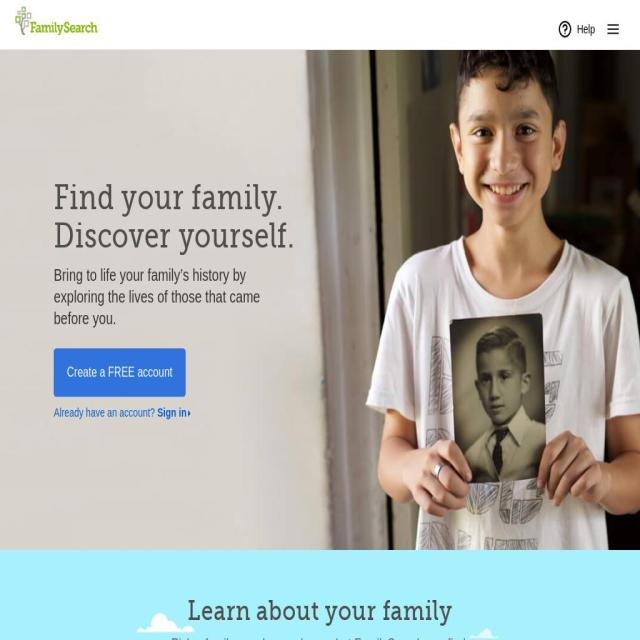button: (54, 348, 185, 397), (552, 14, 600, 44), (602, 14, 624, 44)
heading: (6, 592, 634, 628), (54, 177, 298, 255), (15, 7, 97, 35)
image: (558, 18, 573, 40), (608, 23, 618, 34)
link: (157, 405, 186, 419)
text: (54, 263, 298, 329), (6, 633, 634, 640), (54, 405, 158, 419), (576, 22, 596, 36)
